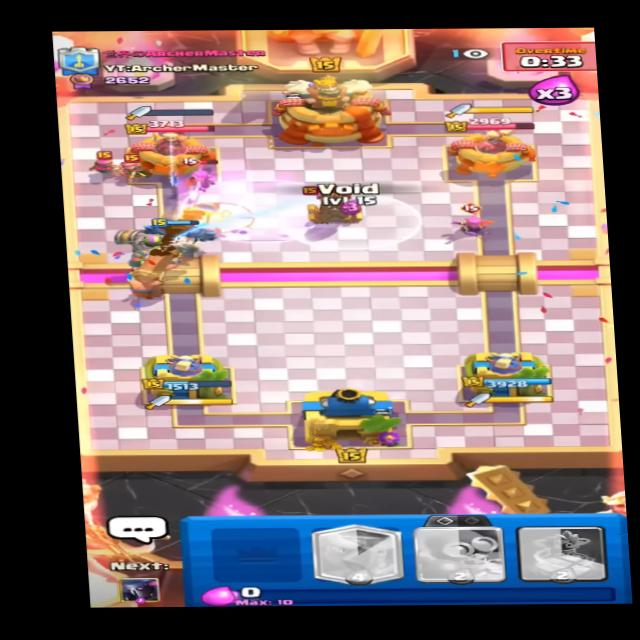Archer: (86, 144, 119, 180), (115, 155, 150, 185)
Evoarchers: (451, 206, 494, 237), (183, 156, 221, 188)
Tesla: (298, 185, 370, 232)
